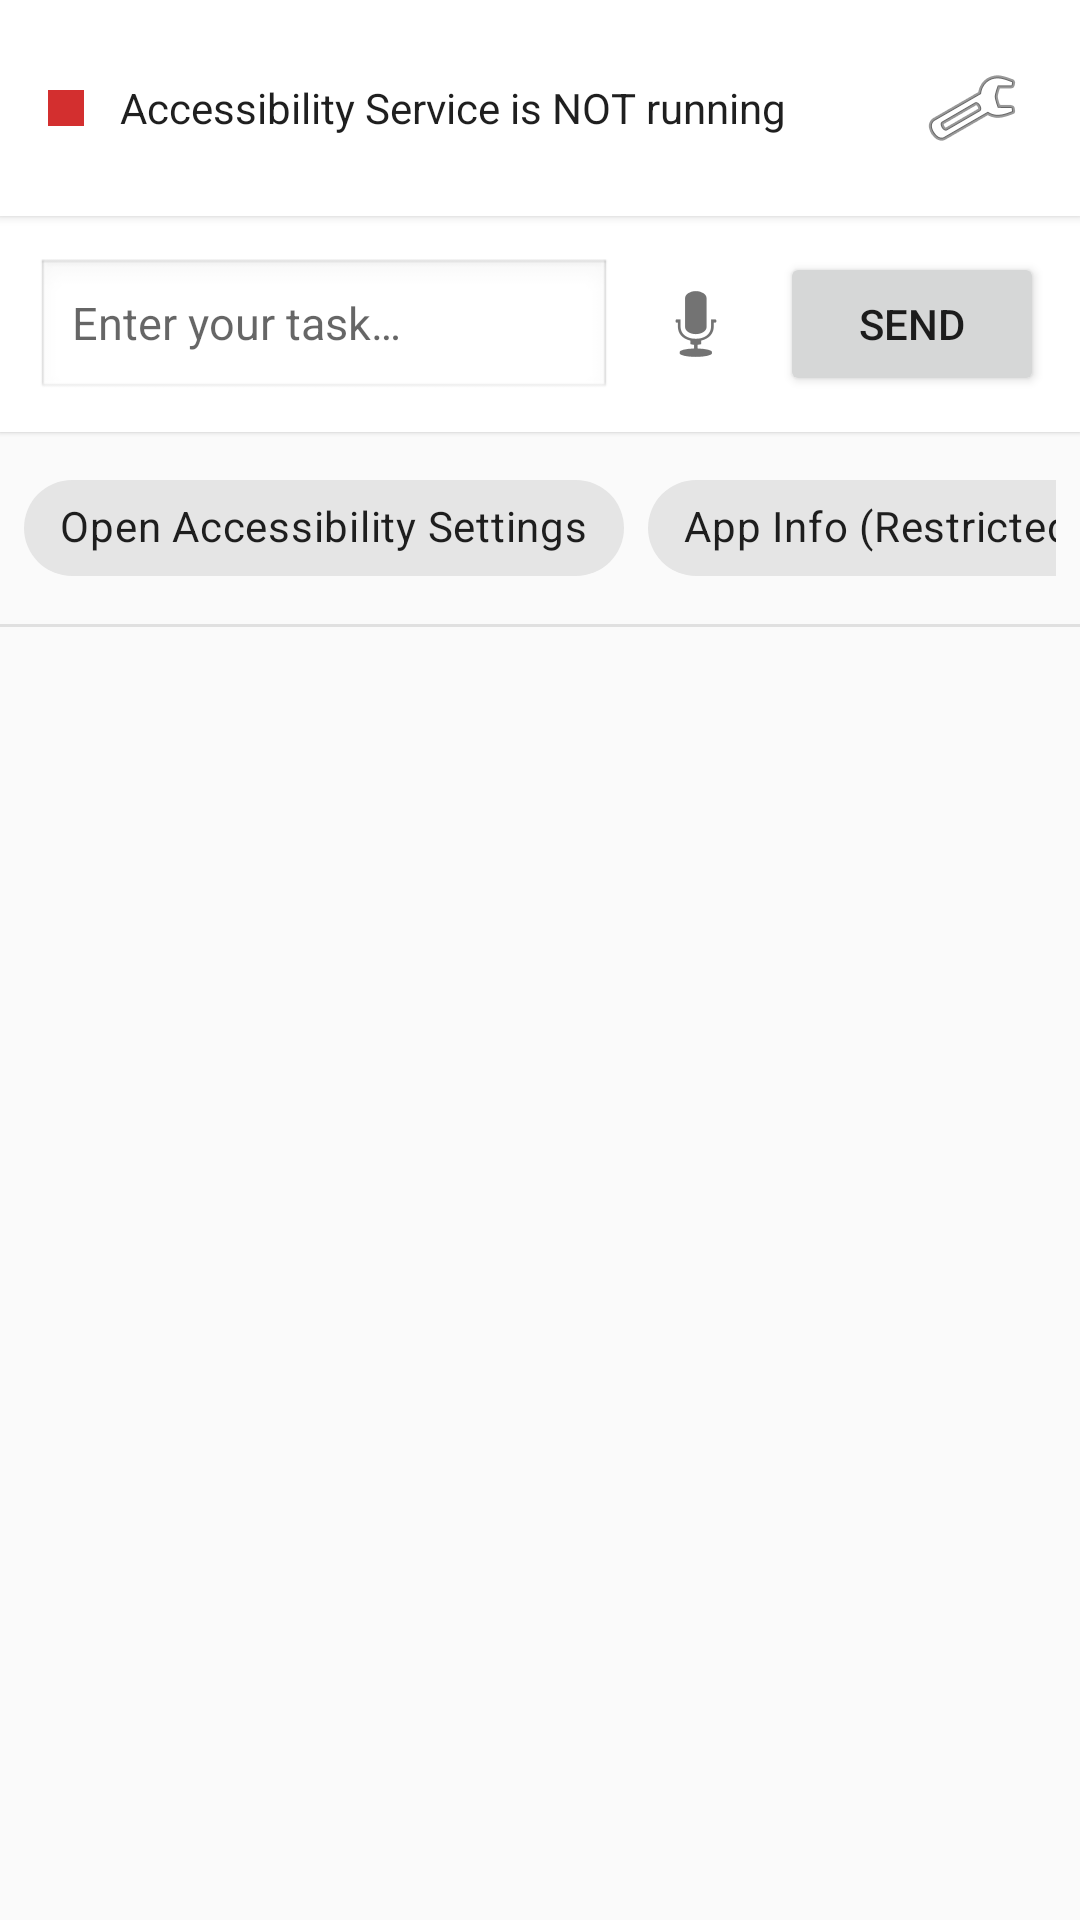

Where icons sit on this 1080×1920 app screen, as (x1, y1, x2, y2):
Settings: (929, 75, 1015, 141)
Voice: (675, 291, 717, 357)
